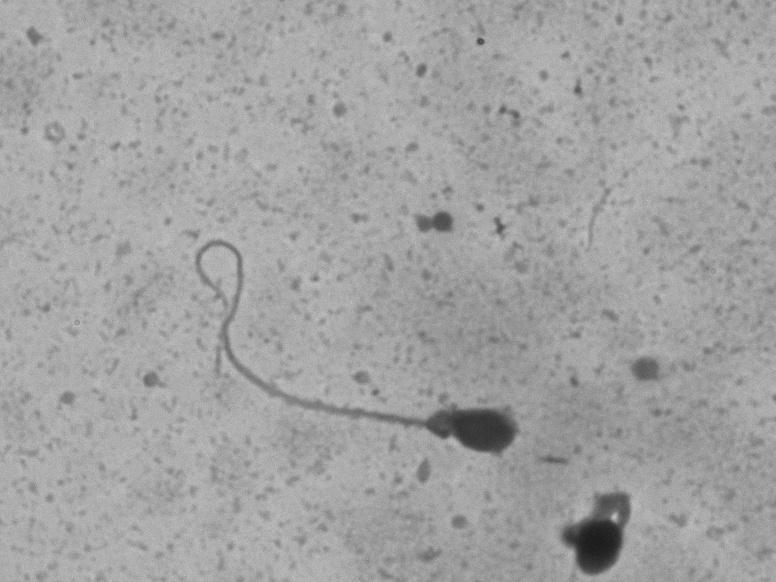Abnormal: (163, 237, 557, 491)
